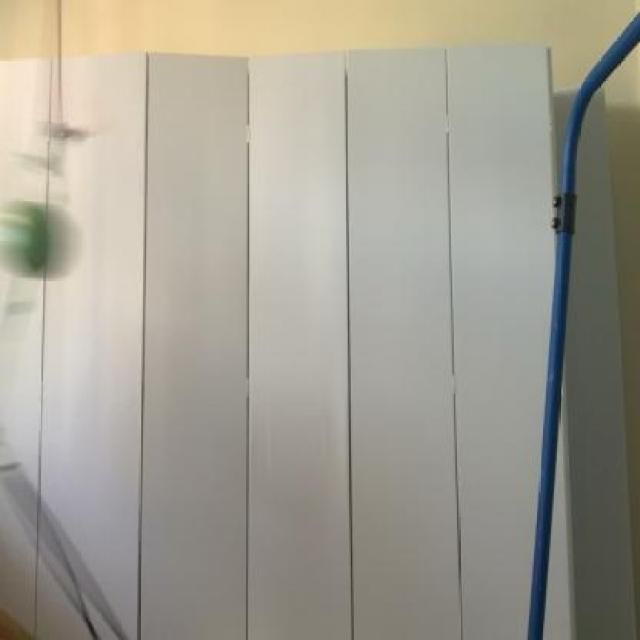baseball: (0, 181, 100, 294)
